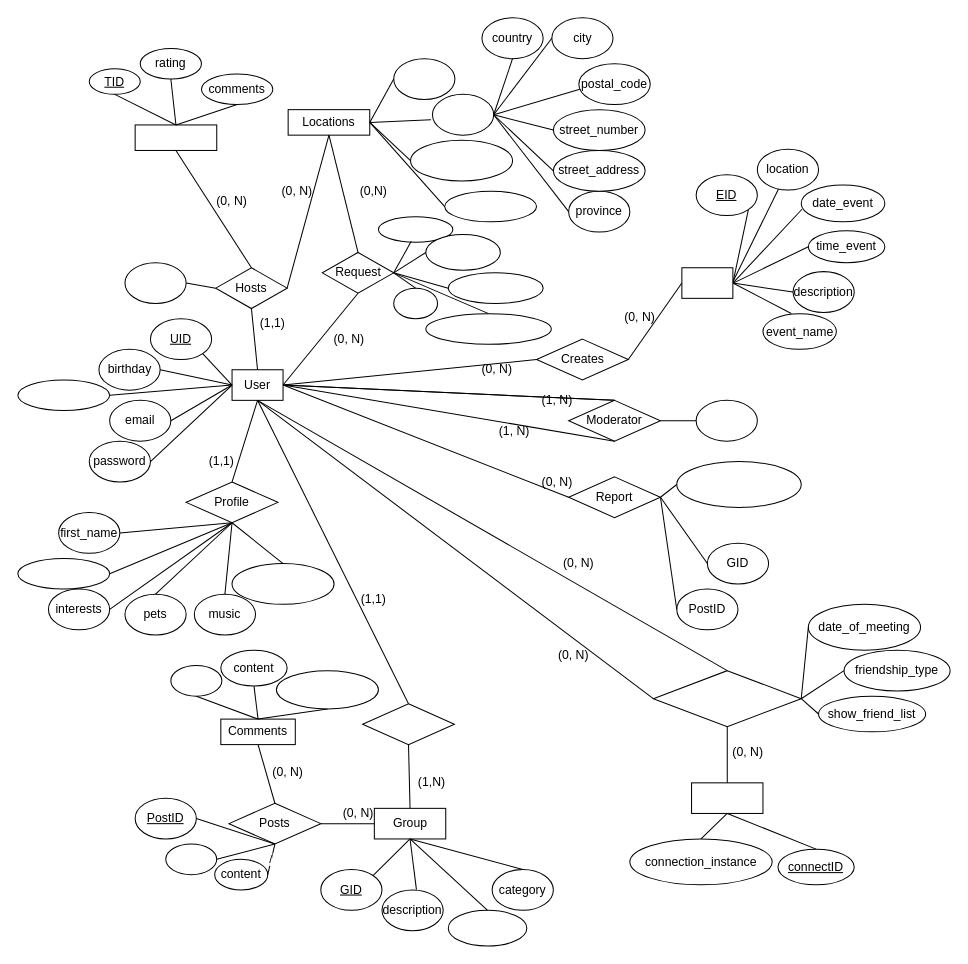
Some shapes in this 968 by 964 pixel diagram are drawn without their labels. The shapes that lost their labels are listed below. From the top down, each one's box as (x1, y1, x2, y2) in pixels, then its label:
(393, 58, 455, 99): LID
(431, 93, 494, 135): address
(134, 124, 217, 150): Testimonials
(410, 139, 513, 181): current_capacity
(444, 190, 537, 222): max_capacity
(377, 216, 453, 242): status
(425, 234, 500, 270): arrival_date
(124, 262, 186, 303): HID
(447, 272, 543, 303): departure_date
(681, 267, 733, 298): Event
(393, 287, 438, 319): RID
(425, 313, 551, 344): number_of_surfers
(17, 379, 110, 411): screen_name
(695, 399, 757, 441): MID
(676, 461, 801, 507): reason_for_report
(17, 557, 110, 589): last_name
(231, 563, 334, 604): more_about_me
(170, 665, 222, 696): CID
(275, 670, 378, 709): time_of_comment
(652, 670, 801, 727): Friend_Request
(362, 703, 454, 745): Members
(691, 782, 763, 813): Connection
(165, 843, 217, 875): title
(447, 909, 527, 946): group_type
